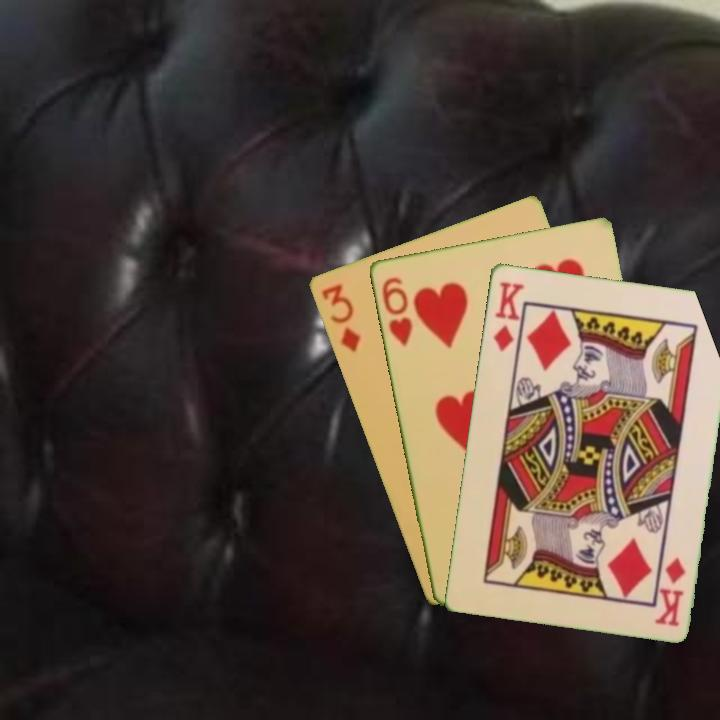3d: (317, 280, 363, 354)
6h: (378, 273, 415, 349)
Kd: (489, 277, 527, 354), (652, 553, 688, 629)
